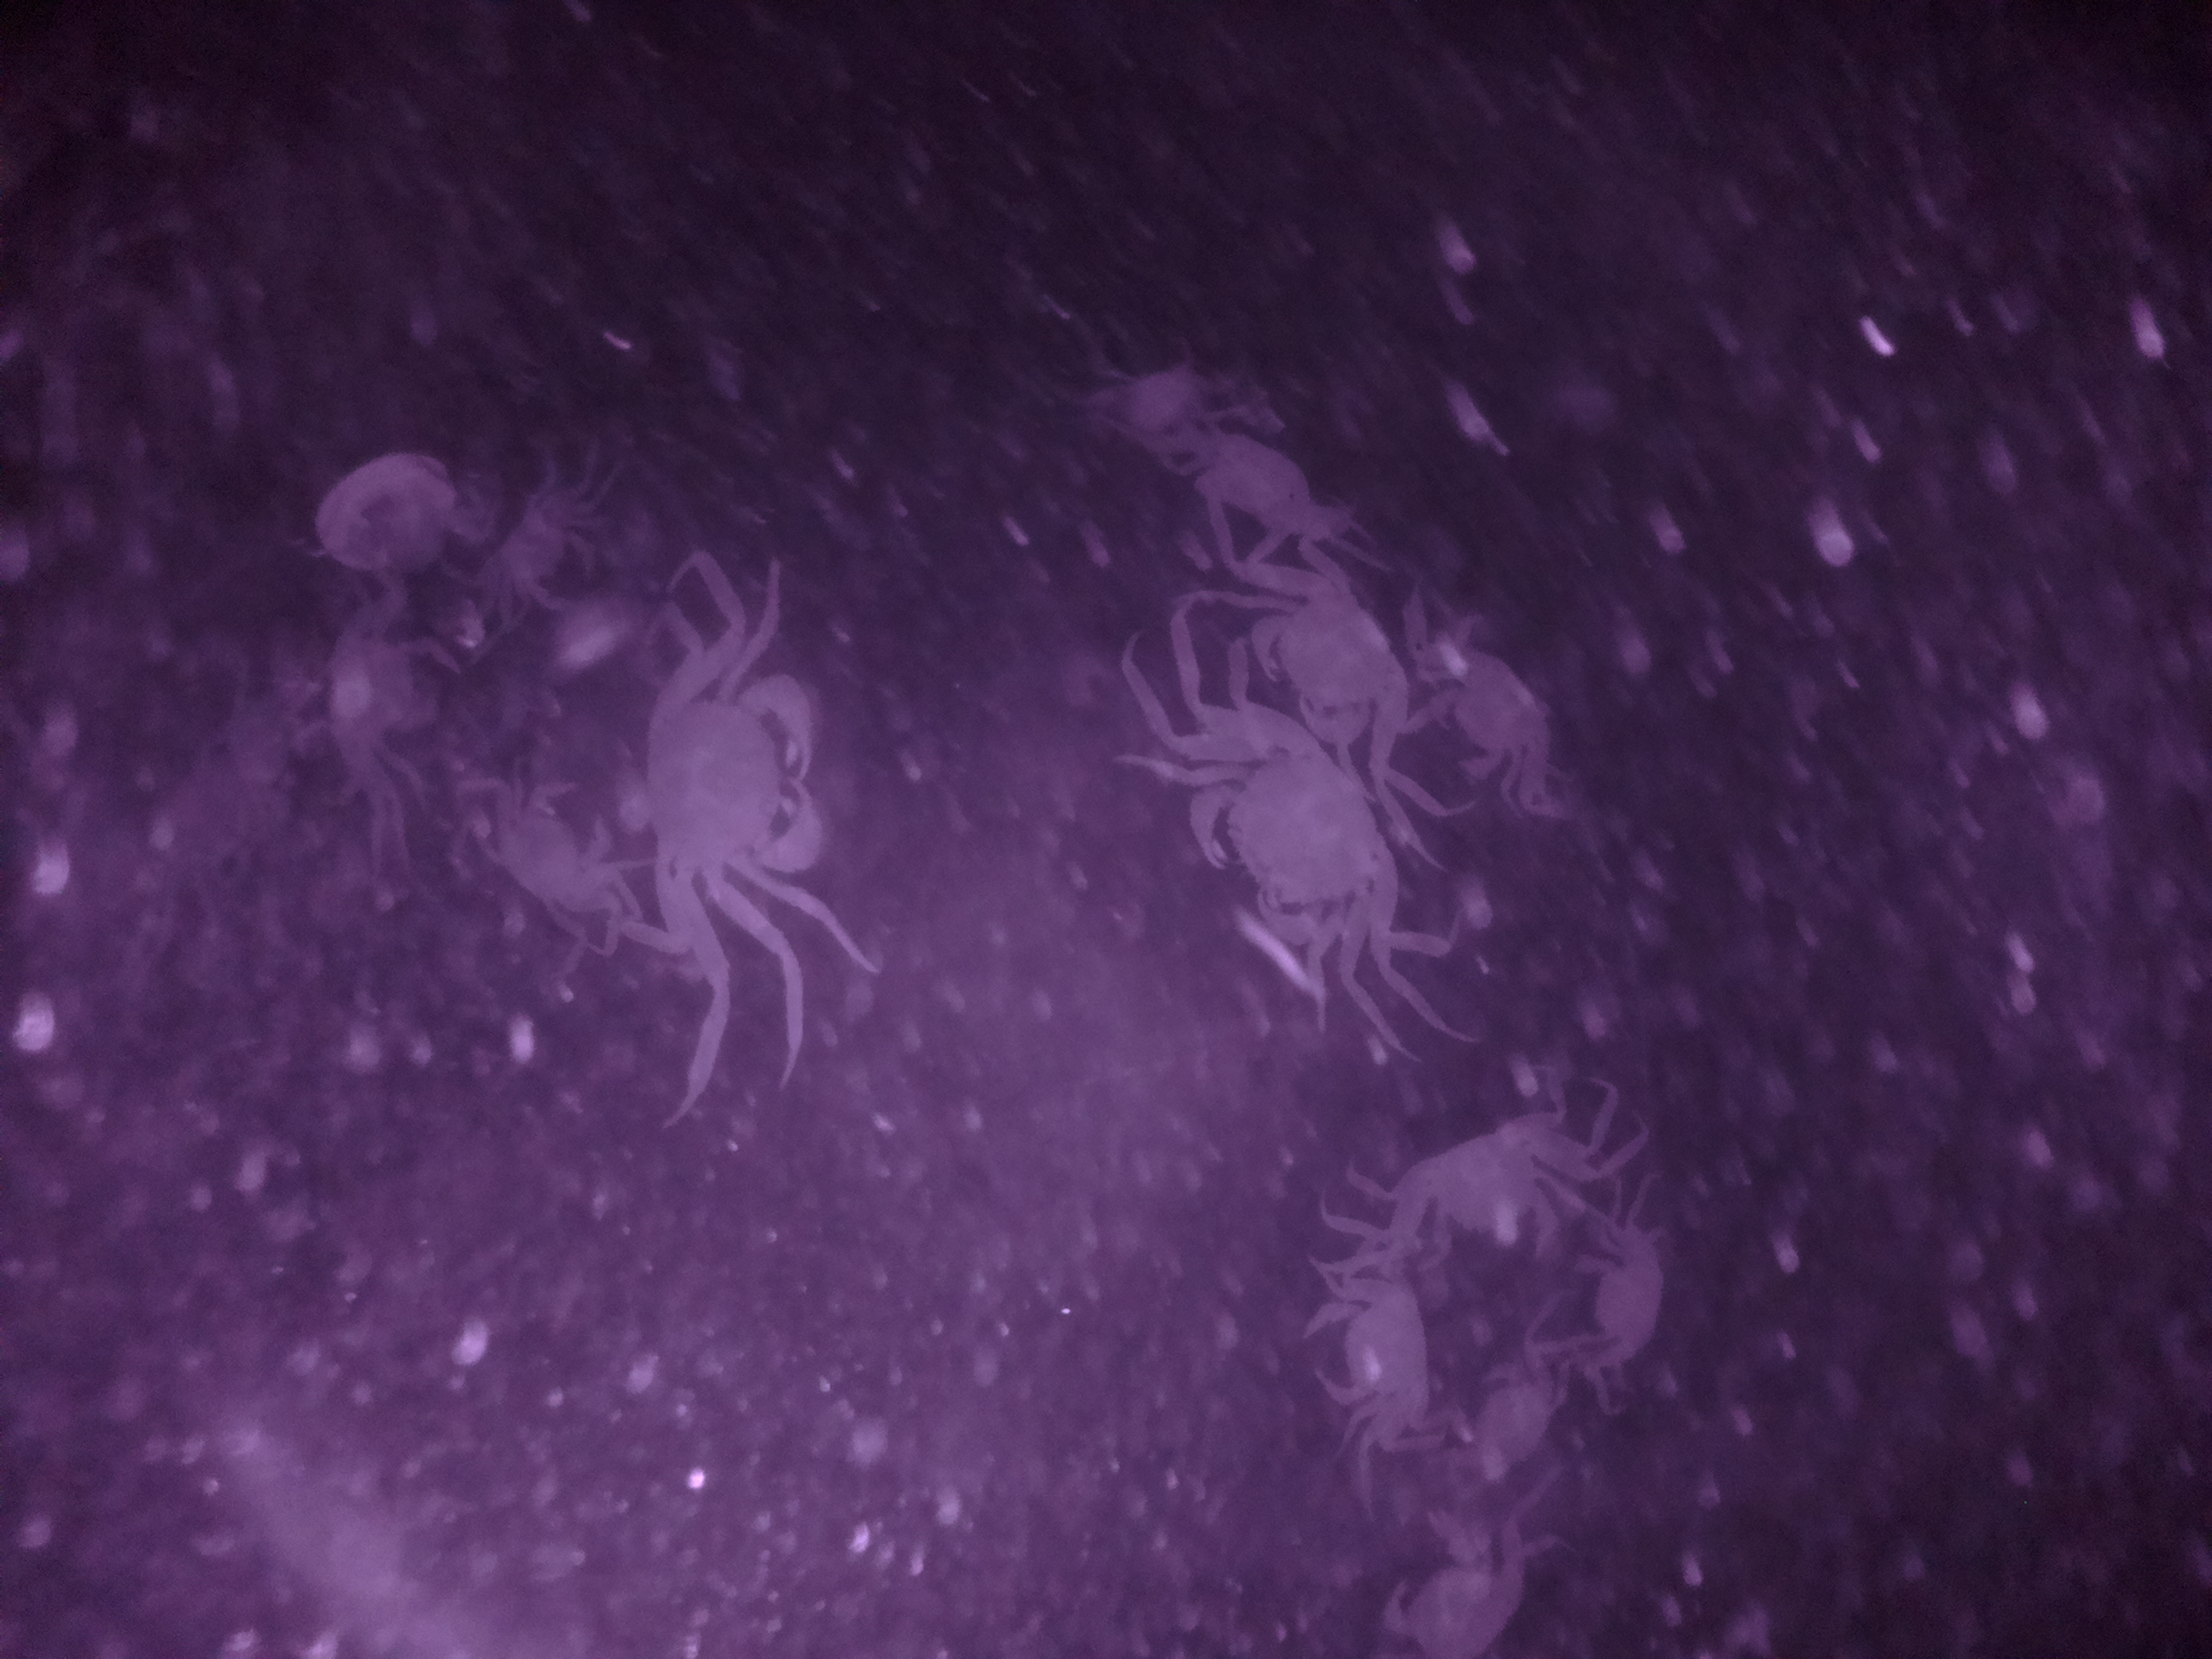Crab: (634, 640, 873, 910), (1170, 716, 1416, 951), (1362, 1108, 1575, 1262), (1564, 1208, 1714, 1403), (1406, 640, 1592, 796), (1305, 1249, 1449, 1446), (482, 762, 618, 950)
